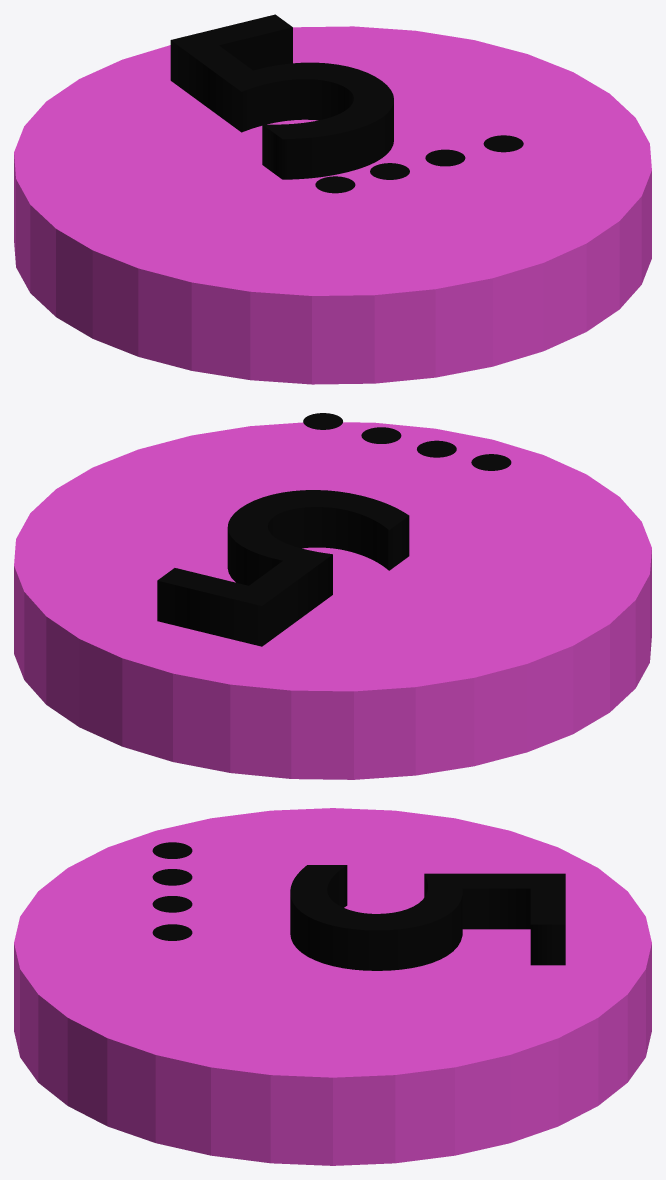
The model's file is five.fbx.
3 views of the same model, one above another, from view 1: azimuth 30°, elevation 25°; view 2: azimuth 150°, elevation 25°; view 3: azimuth 270°, elevation 25° (orthographic).
Visible parts, largest first — view 1: Circle, Text.001, Circle.008, Circle.001, Circle.002, Circle.007; view 2: Circle, Text.001, Circle.007, Circle.001, Circle.008, Circle.002; view 3: Circle, Text.001, Circle.007, Circle.008, Circle.001, Circle.002.
Boxes of the visible parts, bbox=[...] form: Circle: bbox=[14, 26, 651, 384]; Text.001: bbox=[170, 14, 393, 179]; Circle.008: bbox=[315, 176, 355, 193]; Circle.001: bbox=[425, 149, 465, 166]; Circle.002: bbox=[483, 135, 523, 152]; Circle.007: bbox=[370, 163, 409, 179]; Circle: bbox=[14, 422, 651, 779]; Text.001: bbox=[157, 490, 409, 646]; Circle.007: bbox=[417, 440, 456, 457]; Circle.001: bbox=[361, 427, 401, 443]; Circle.008: bbox=[471, 454, 511, 470]; Circle.002: bbox=[303, 413, 342, 429]; Circle: bbox=[14, 808, 651, 1165]; Text.001: bbox=[290, 865, 565, 970]; Circle.007: bbox=[152, 869, 192, 885]; Circle.008: bbox=[152, 842, 192, 858]; Circle.001: bbox=[152, 896, 192, 912]; Circle.002: bbox=[152, 924, 192, 940].
Bounding box in the file's own units: 200 × 49.27 × 200.
